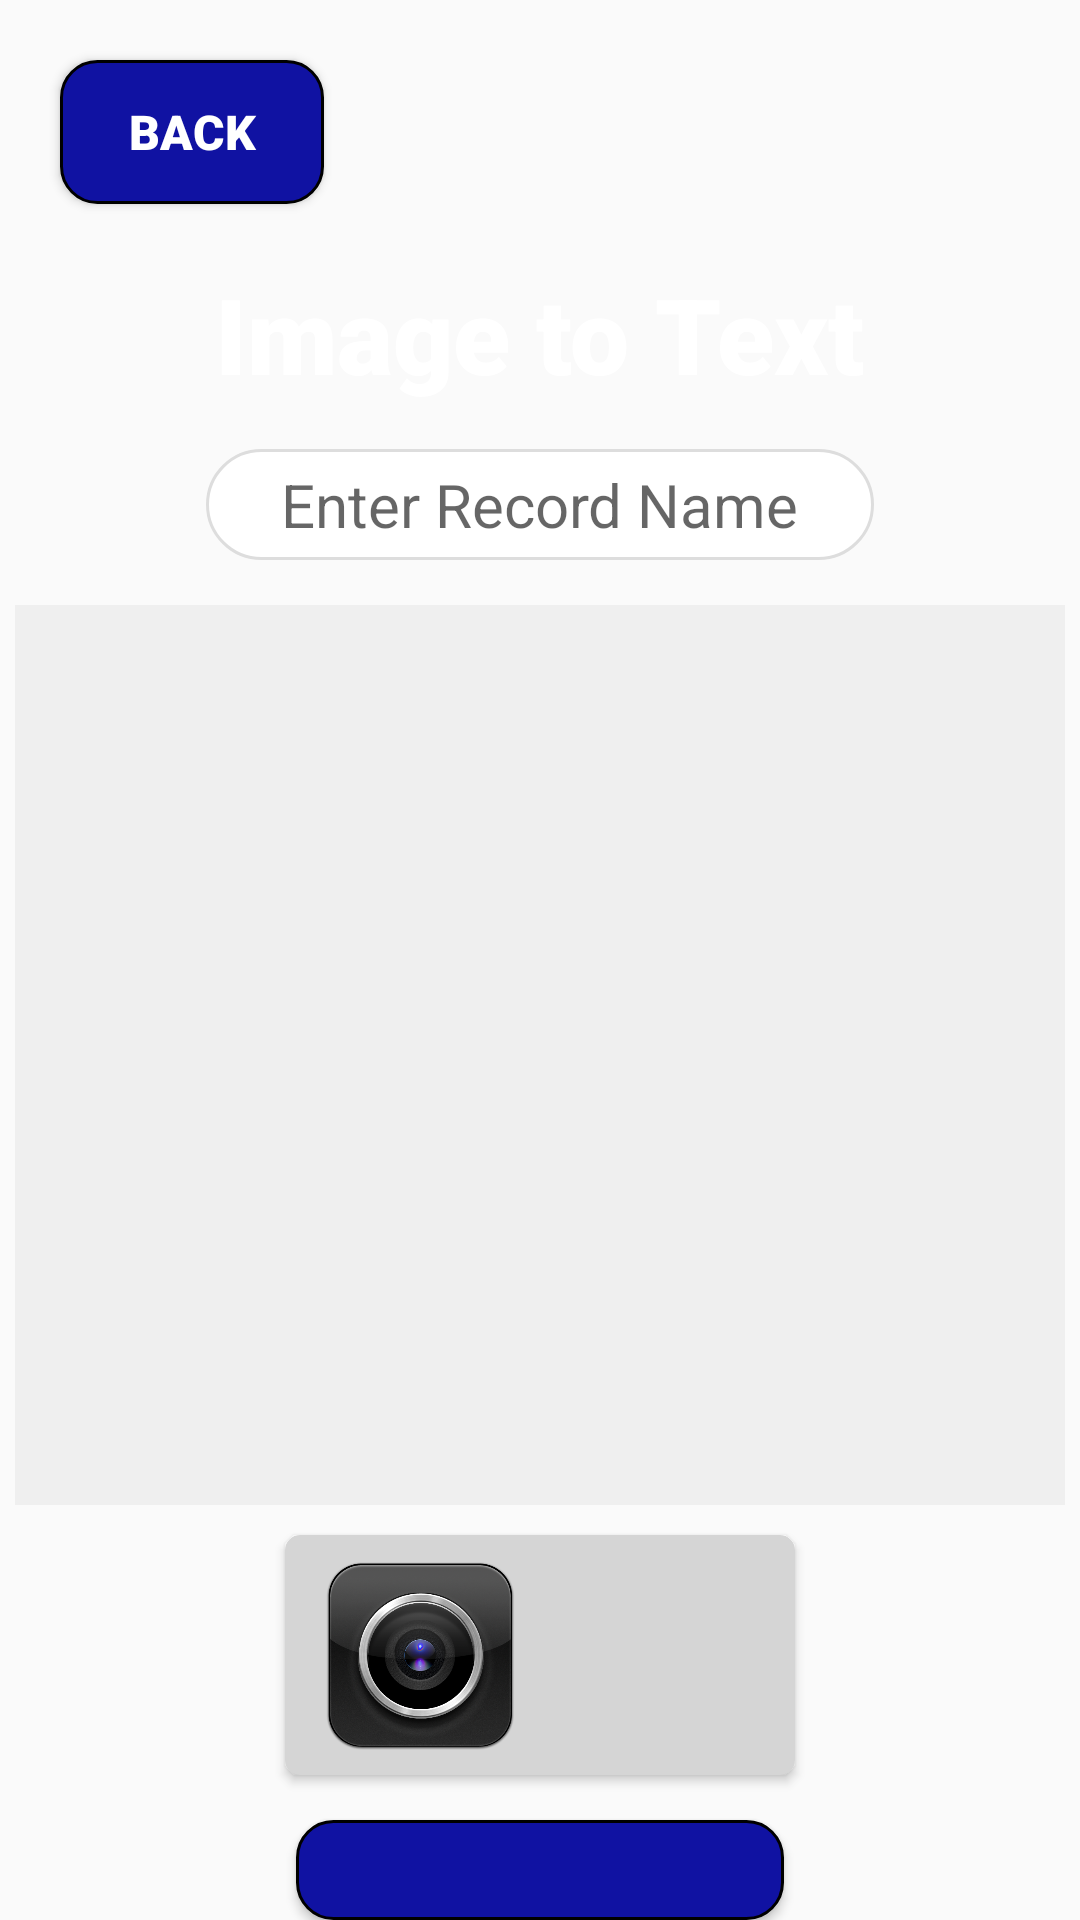

Screen size 1080*1920. Icon name, then its box in pixels as (left=x1, top=y1, right=x2, bottom=y2):
camera: (left=327, top=1563, right=514, bottom=1749)
